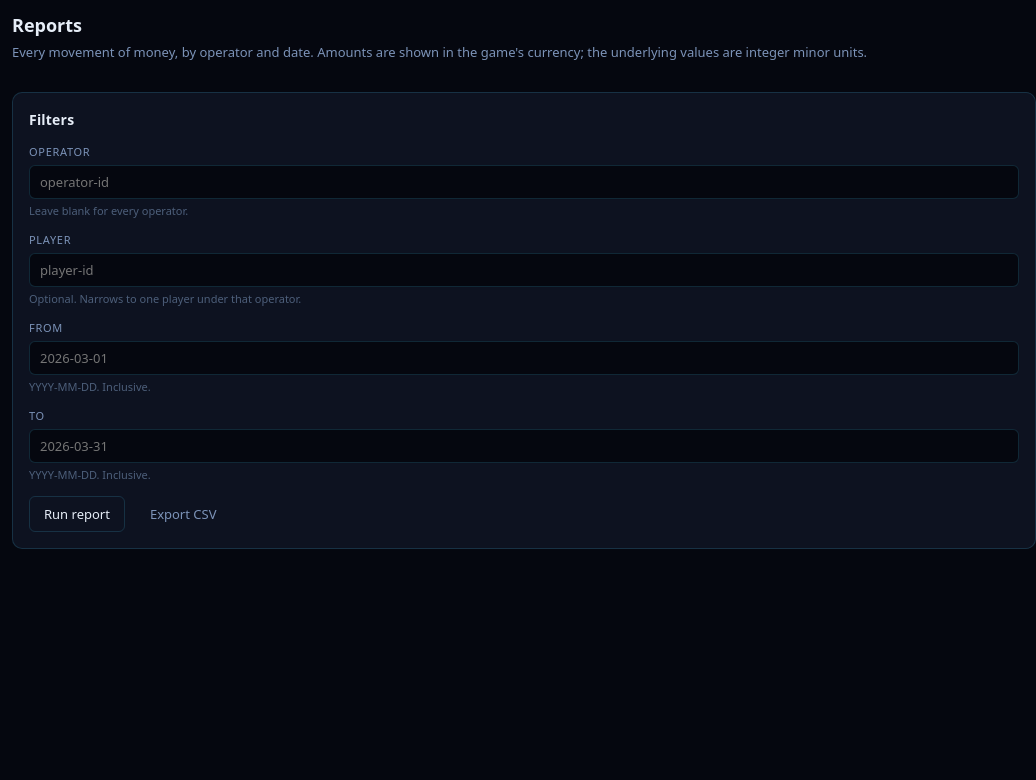
Test: the CSV export › confirms an untruncated export rather than saying nothing
The image size is (1036, 780).
Click the button "Export CSV" at (183, 514), box [135, 496, 232, 532]
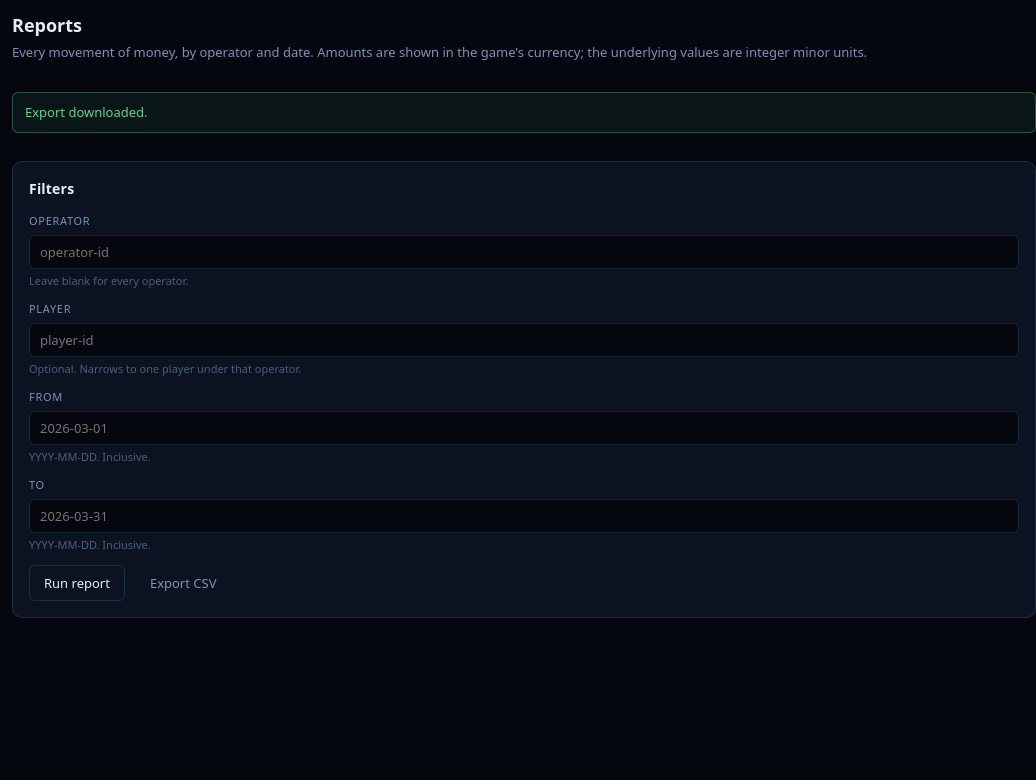
expect the text "Export downloaded." is shown: met, box [12, 92, 1035, 133]
